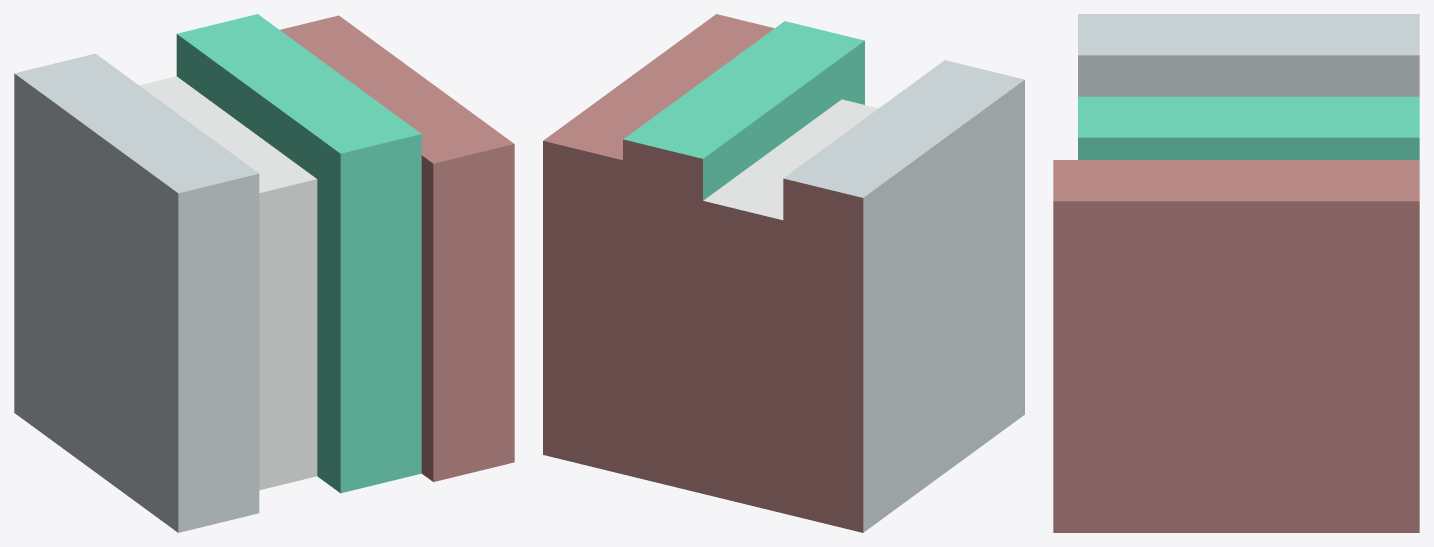
File: books2.fbx
3 views of the same model, side by side, from view 1: azimuth 30°, elevation 25°; view 2: azimuth 150°, elevation 25°; view 3: azimuth 270°, elevation 25° (orthographic). The views are drawn at different scales.
Visible parts, largest first — view 1: books(Clone); view 2: books(Clone); view 3: books(Clone).
Part boxes in pixels (box(x1,y1,x2,y2)): books(Clone): box(14, 14, 514, 532); books(Clone): box(543, 14, 1024, 532); books(Clone): box(1053, 14, 1419, 532).
Bounding box in the file's own units: 10.08 × 10.08 × 9.45.
